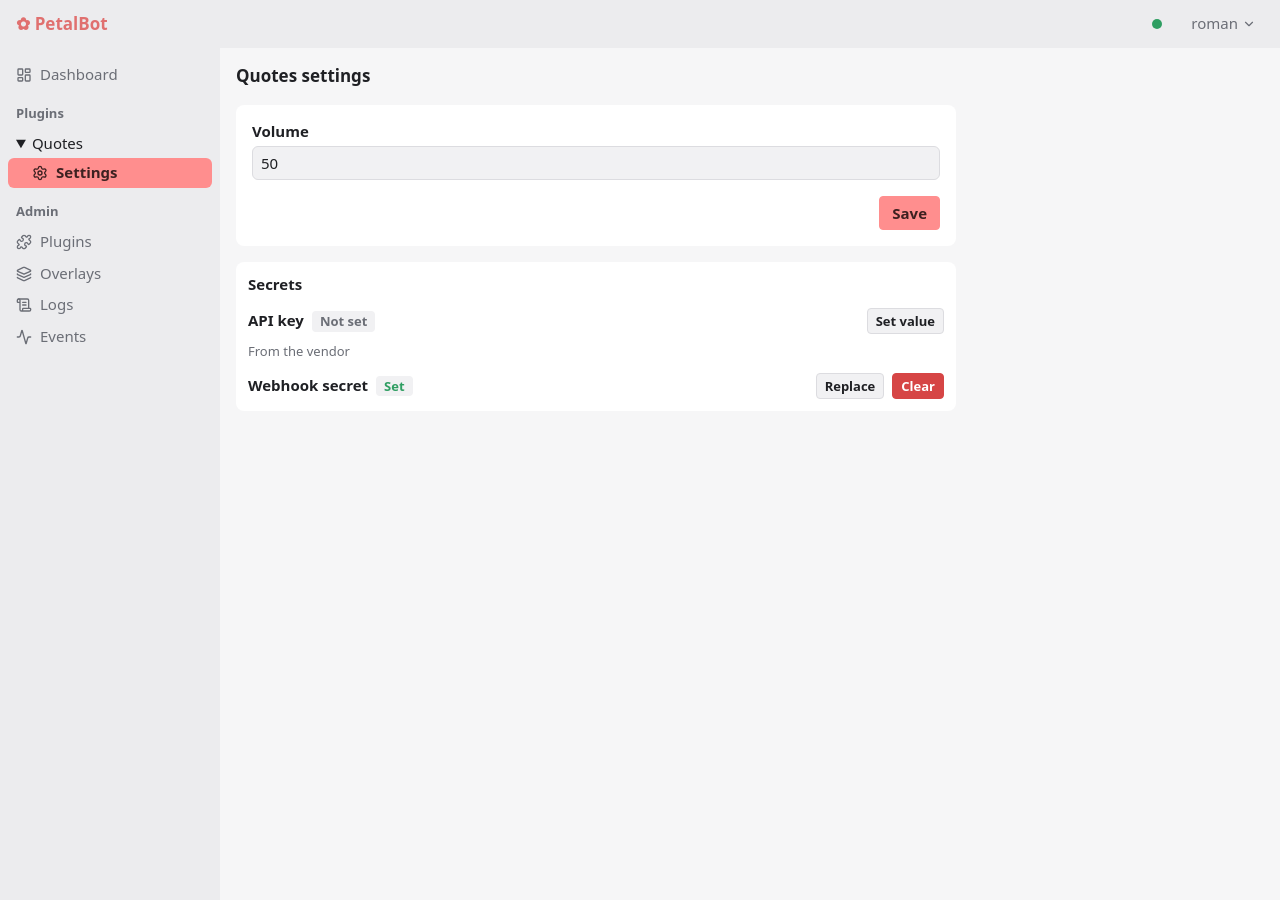
Test: secrets card › keeps the typed value when saving fails
Click the button "Set value" at point(905, 321), box [867,308,944,334]
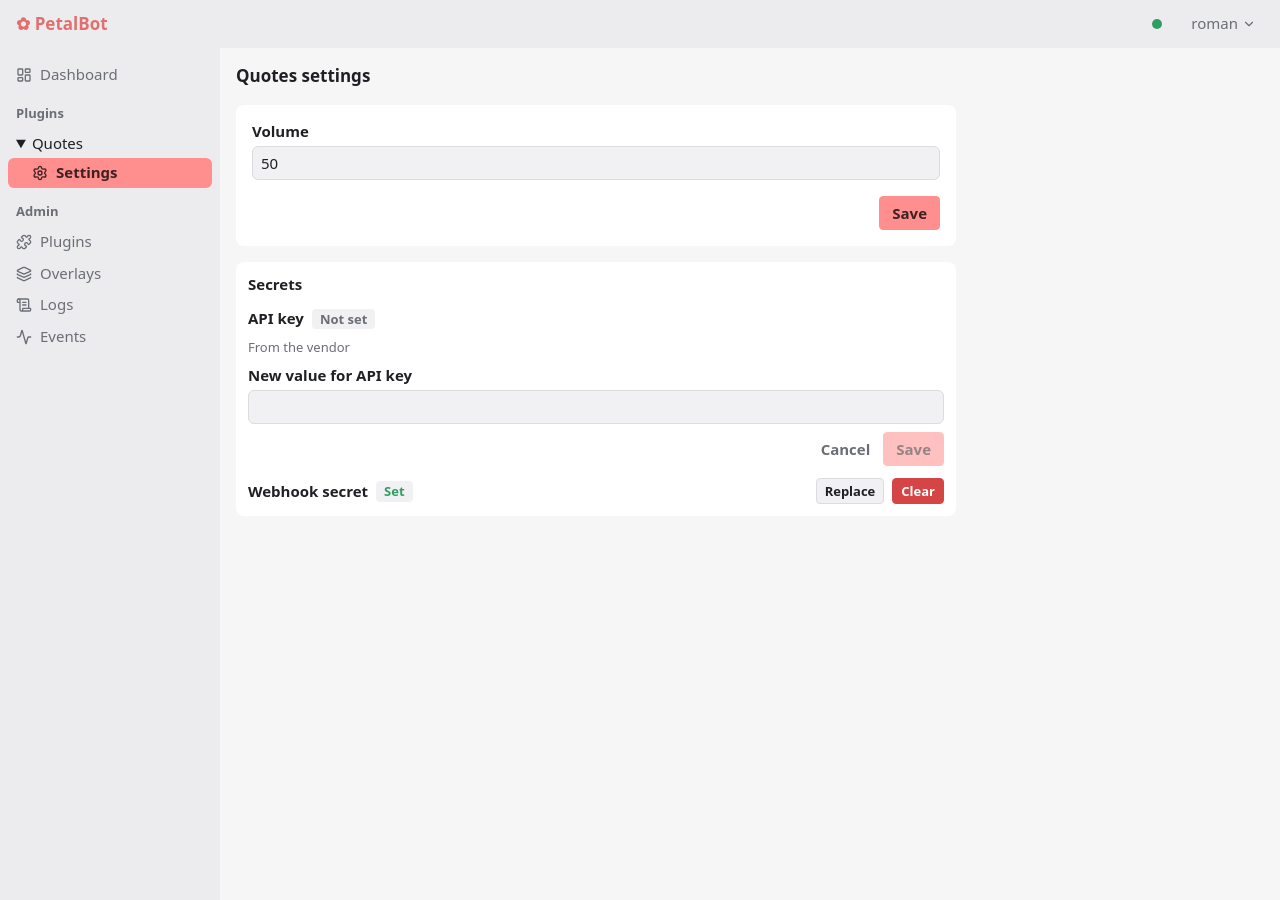
Type "sk-9" into the password field labelled "New value for API key" at point(596, 408), box [248,390,944,424]
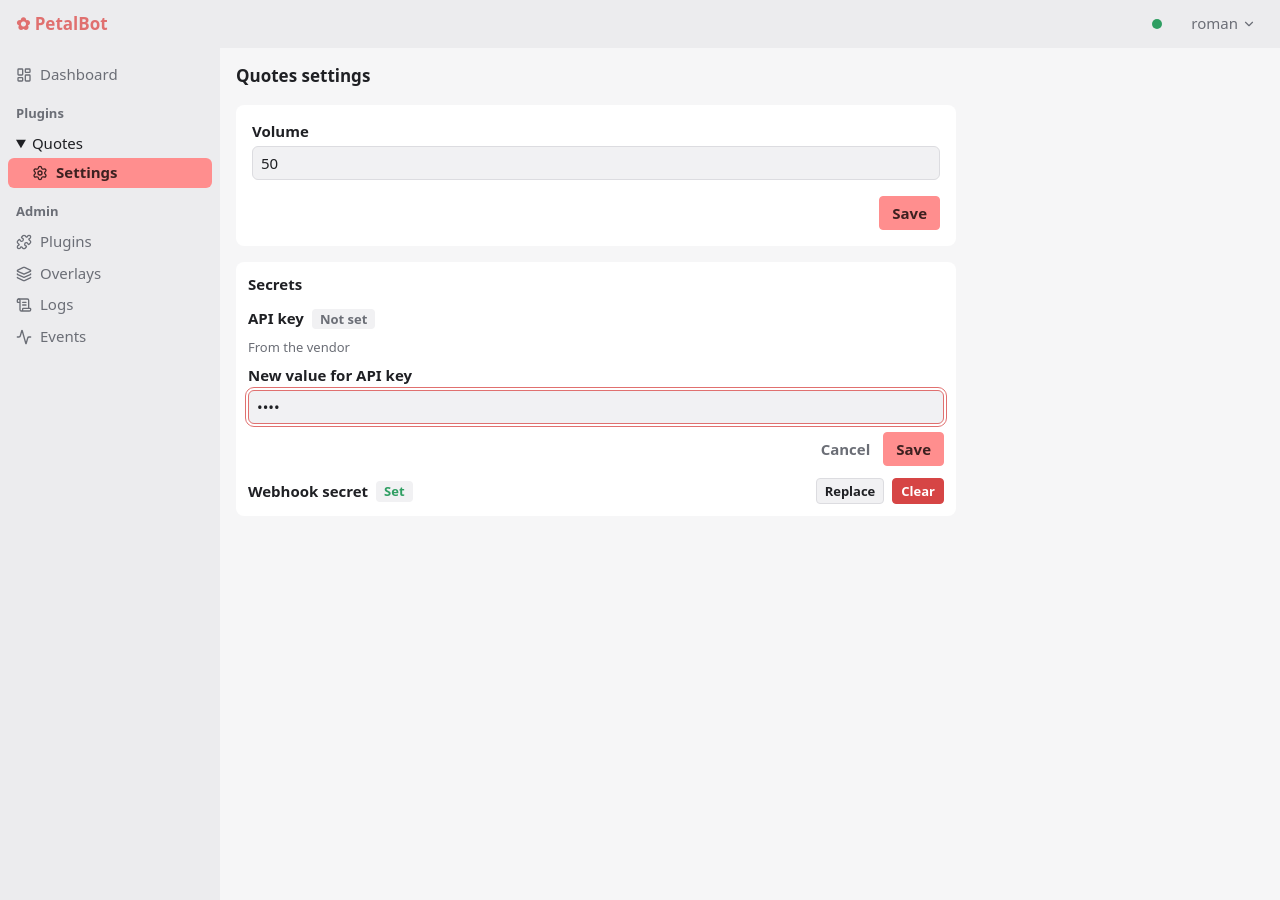
Click the 2nd button "Save" at point(914, 450), box [883,432,944,466]
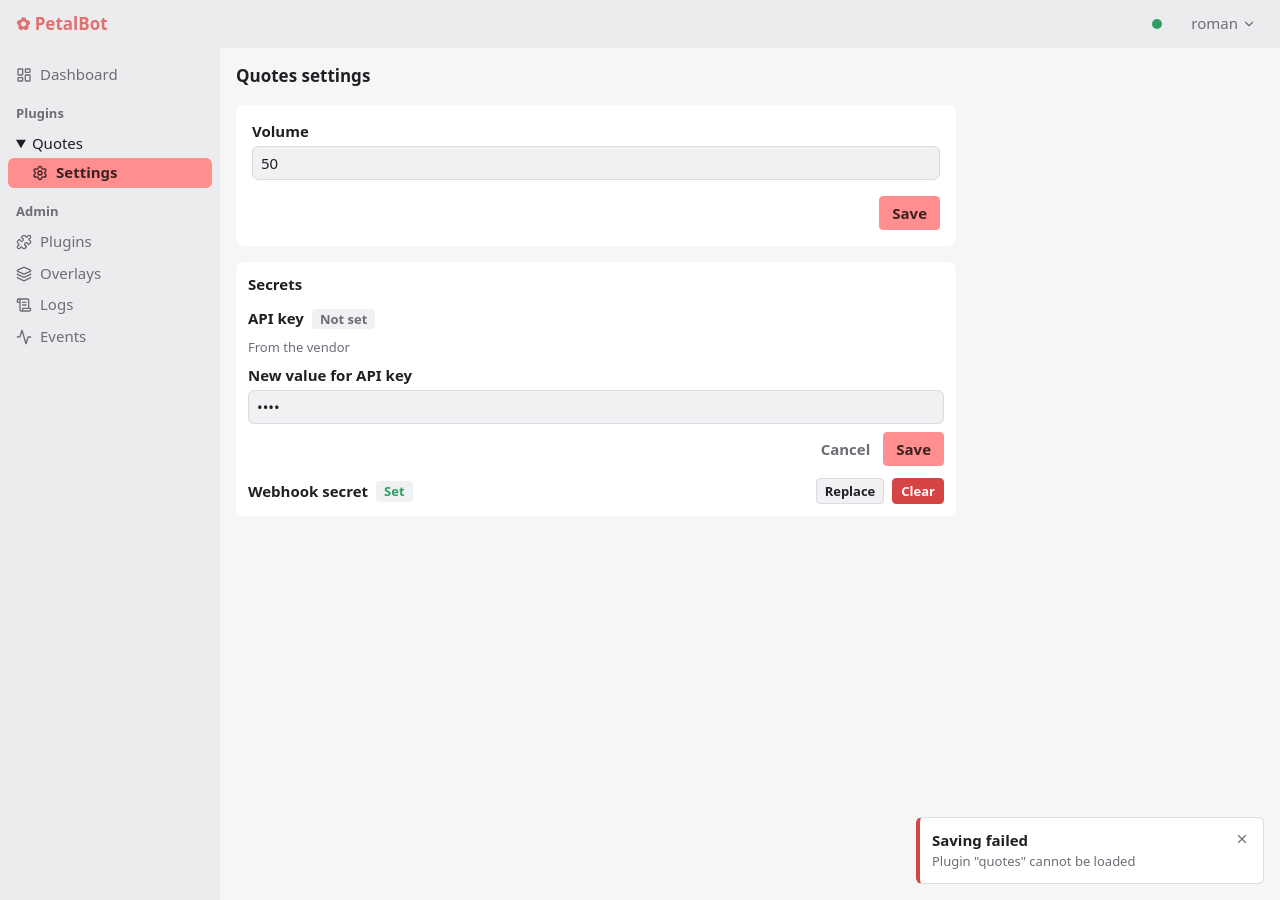
Expected: the text "Saving failed" is shown, [932,830,1028,850]
